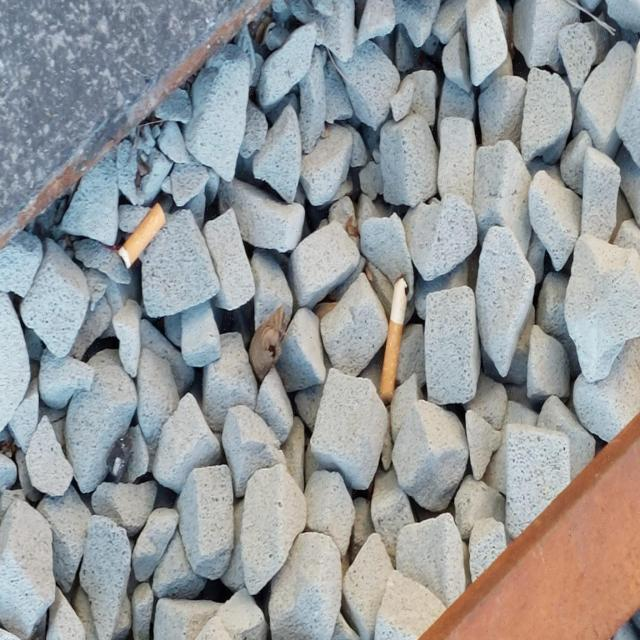other waste: (379, 274, 409, 406), (117, 201, 167, 271)
